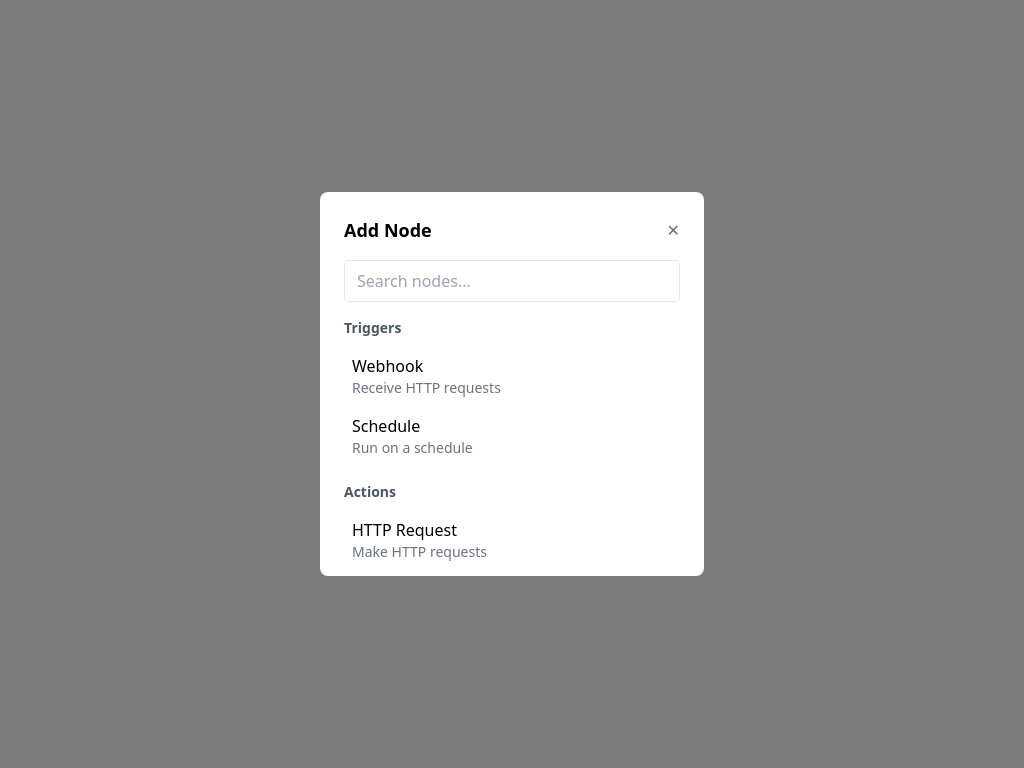
Test: AddNodeModal › should be case insensitive when searching
The width and height of the screenshot is (1024, 768).
In the field with placeholder "Search nodes...": [512, 281] box left=344, top=260, right=680, bottom=302, type "WEBHOOK"
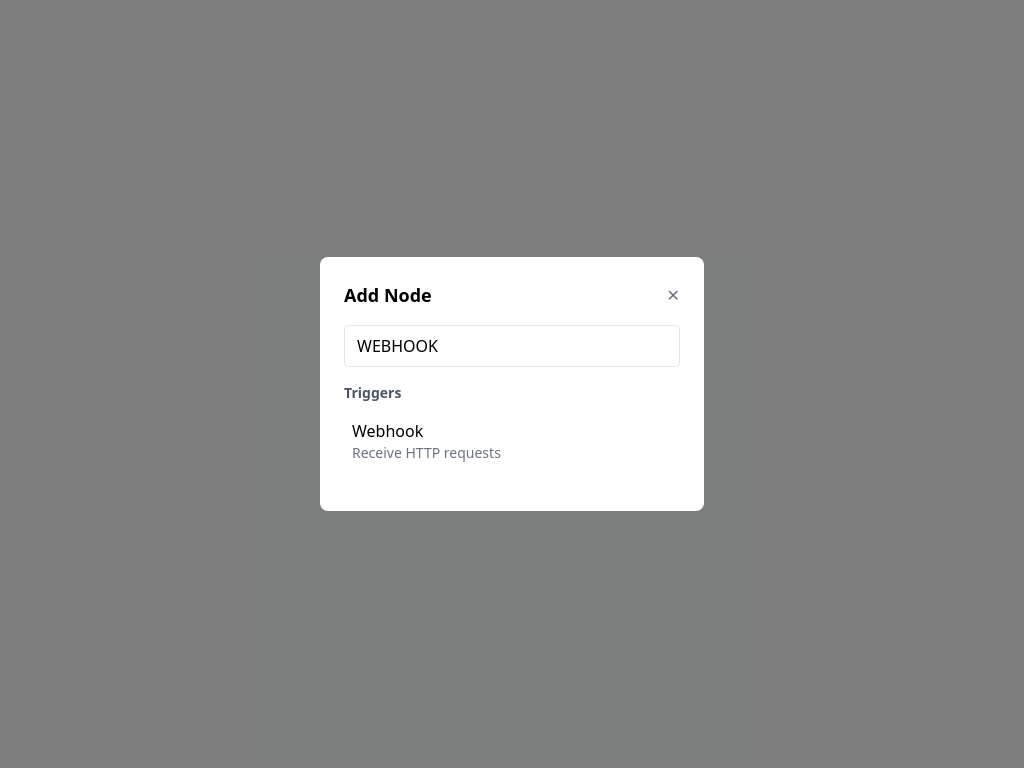
Expected: the text "Webhook" is shown, left=352, top=420, right=423, bottom=442
Now the button "Schedule" is gone
